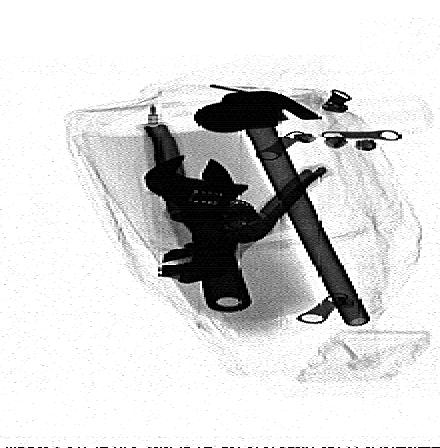Hammer: (190, 91, 381, 328)
Pliers: (144, 124, 335, 282)
Wrench: (140, 149, 255, 313)
